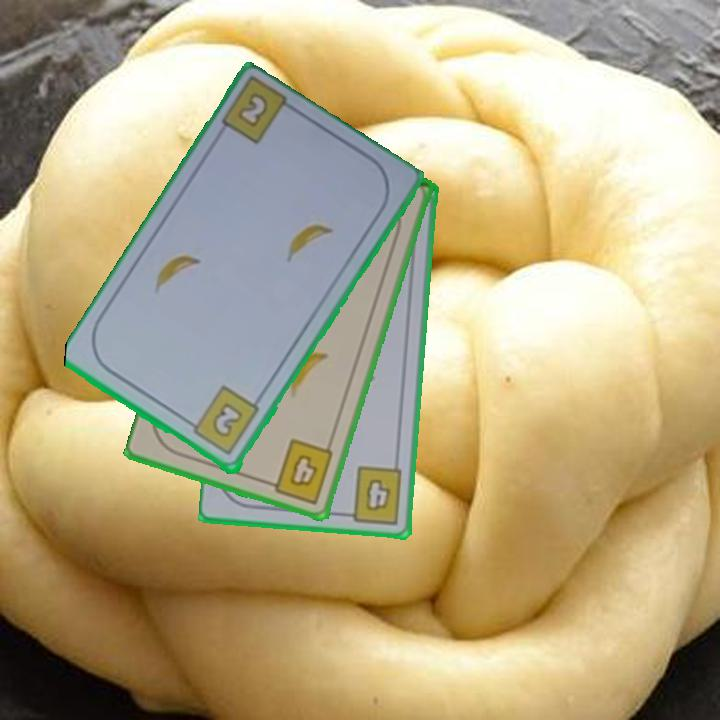2b: (183, 382, 263, 459), (234, 89, 272, 131)
4b: (262, 435, 337, 507), (340, 463, 405, 527)
